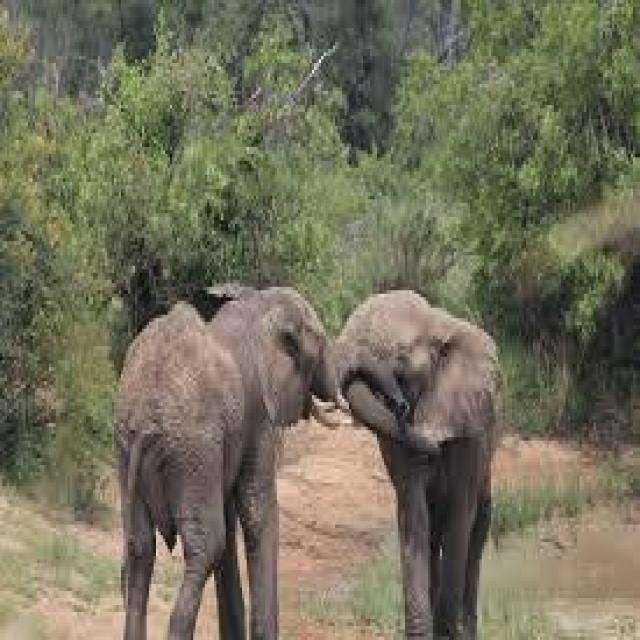Elephant: (105, 284, 337, 636), (335, 284, 496, 636)
